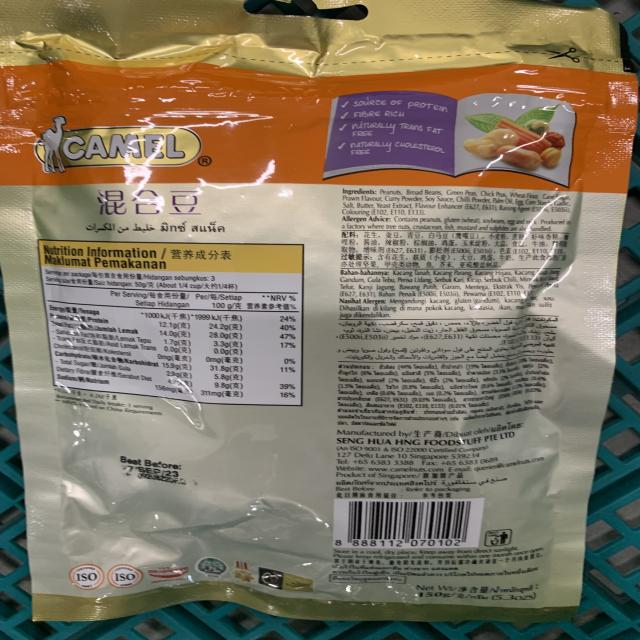object_name: (4, 8, 599, 614)
